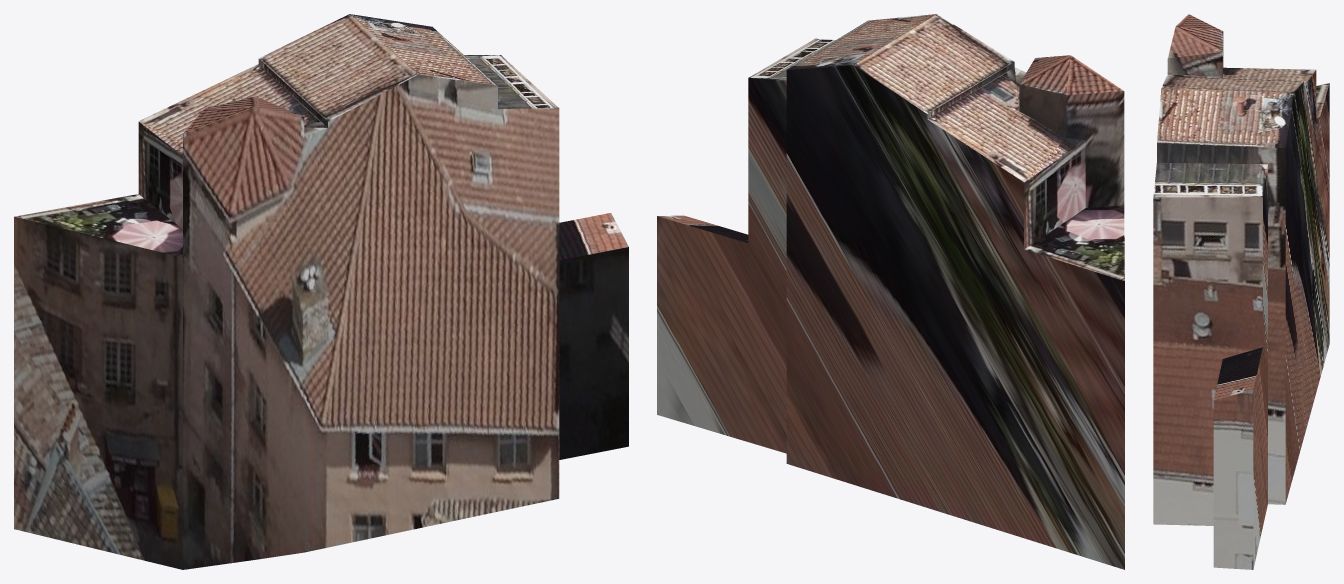
3 views of the same model, side by side, from view 1: azimuth 30°, elevation 25°; view 2: azimuth 150°, elevation 25°; view 3: azimuth 270°, elevation 25° (orthographic). The views are drawn at different scales.
Parts seen in each view (by area): view 1: Z_UP; view 2: Z_UP; view 3: Z_UP.
Boxes of the visible parts, x1,y1,x2,y2 form: Z_UP: [14, 14, 628, 569]; Z_UP: [657, 14, 1124, 569]; Z_UP: [1153, 14, 1329, 569].
Bounding box in the file's own units: 23.35 × 18.37 × 7.71.
2 materials, 1 textured.
